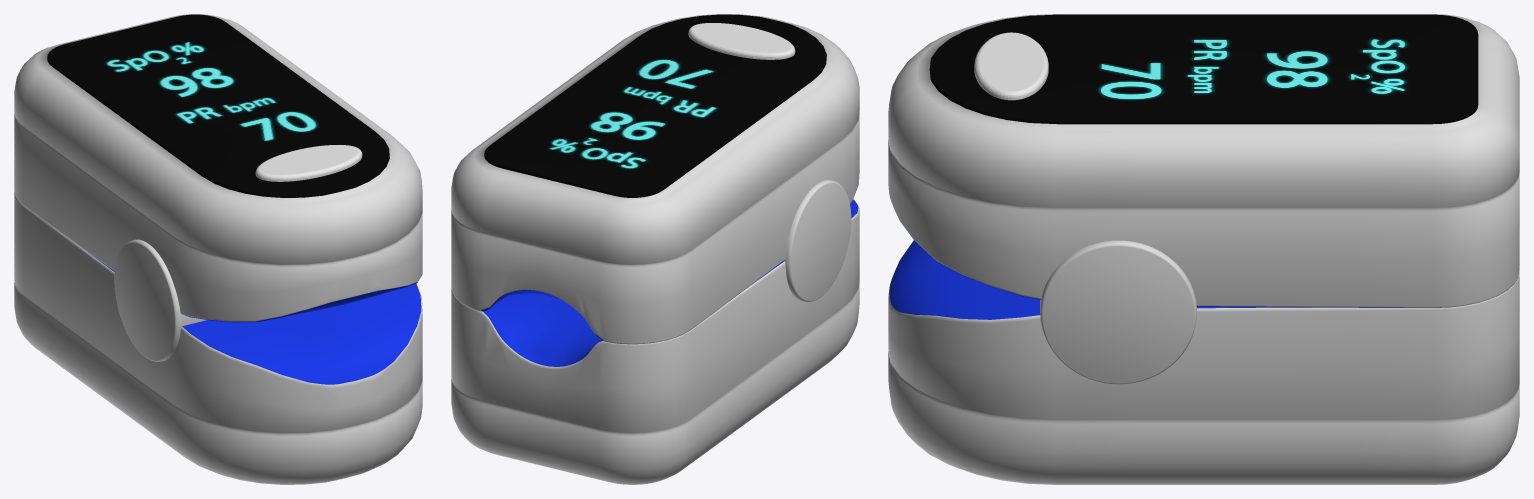
The model's file is pulse-oximeter.glb.
The picture shows the model from 3 angles, left to right: view 1: azimuth 30°, elevation 25°; view 2: azimuth 150°, elevation 25°; view 3: azimuth 270°, elevation 25°; orthographic projection. The views are drawn at different scales.
Visible parts, largest first — view 1: Top, Bottom, Cylinder.001, Cylinder; view 2: Top, Bottom, Cylinder.001, Cylinder; view 3: Top, Bottom, Cylinder.001, Cylinder.
Boxes of the visible parts, x1,y1,x2,y2 form: Top: (14, 14, 422, 322); Bottom: (14, 192, 422, 484); Cylinder.001: (114, 239, 206, 361); Cylinder: (255, 145, 362, 181); Top: (451, 14, 859, 344); Bottom: (451, 199, 859, 484); Cylinder.001: (784, 180, 851, 302); Cylinder: (688, 23, 795, 59); Top: (888, 14, 1519, 307); Bottom: (888, 240, 1519, 484); Cylinder.001: (1040, 240, 1196, 384); Cylinder: (974, 32, 1048, 100).
Bounding box in the file's own units: 1.03 × 1.22 × 1.87.
3 materials, 1 textured.
